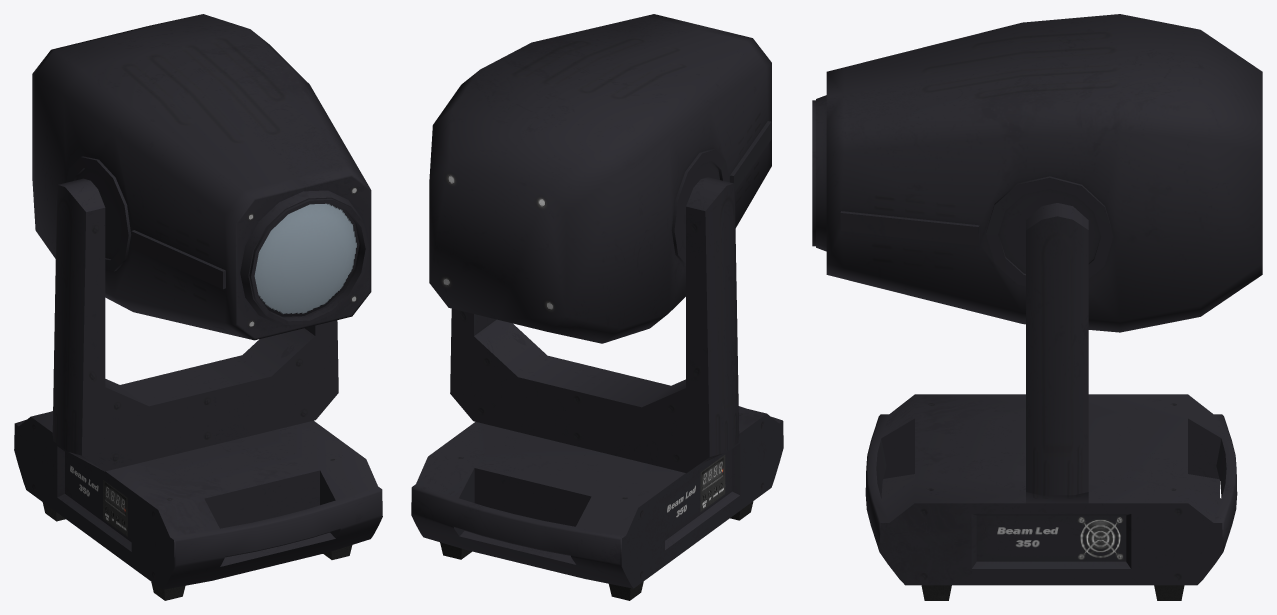
File: DiscoLight04.FBX
The picture shows the model from 3 angles, left to right: view 1: azimuth 30°, elevation 25°; view 2: azimuth 150°, elevation 25°; view 3: azimuth 270°, elevation 25°; orthographic projection. The views are drawn at different scales.
Visible parts, largest first — view 1: DiscoLight04Light, DiscoLight04Base, DiscoLight04; view 2: DiscoLight04Light, DiscoLight04Base, DiscoLight04; view 3: DiscoLight04Light, DiscoLight04Base, DiscoLight04.
Part boxes in pixels (x1,y1,x2,y2): DiscoLight04Light: (32,14,371,340); DiscoLight04Base: (14,411,382,600); DiscoLight04: (52,178,338,471); DiscoLight04Light: (429,14,771,343); DiscoLight04Base: (411,406,783,600); DiscoLight04: (450,177,739,473); DiscoLight04Light: (812,14,1262,332); DiscoLight04Base: (865,394,1237,600); DiscoLight04: (1026,203,1088,503).
Bounding box in the file's own units: 34.91 × 57.05 × 47.03.
